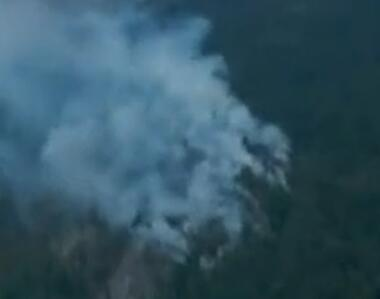yanwu: (0, 1, 297, 268)
